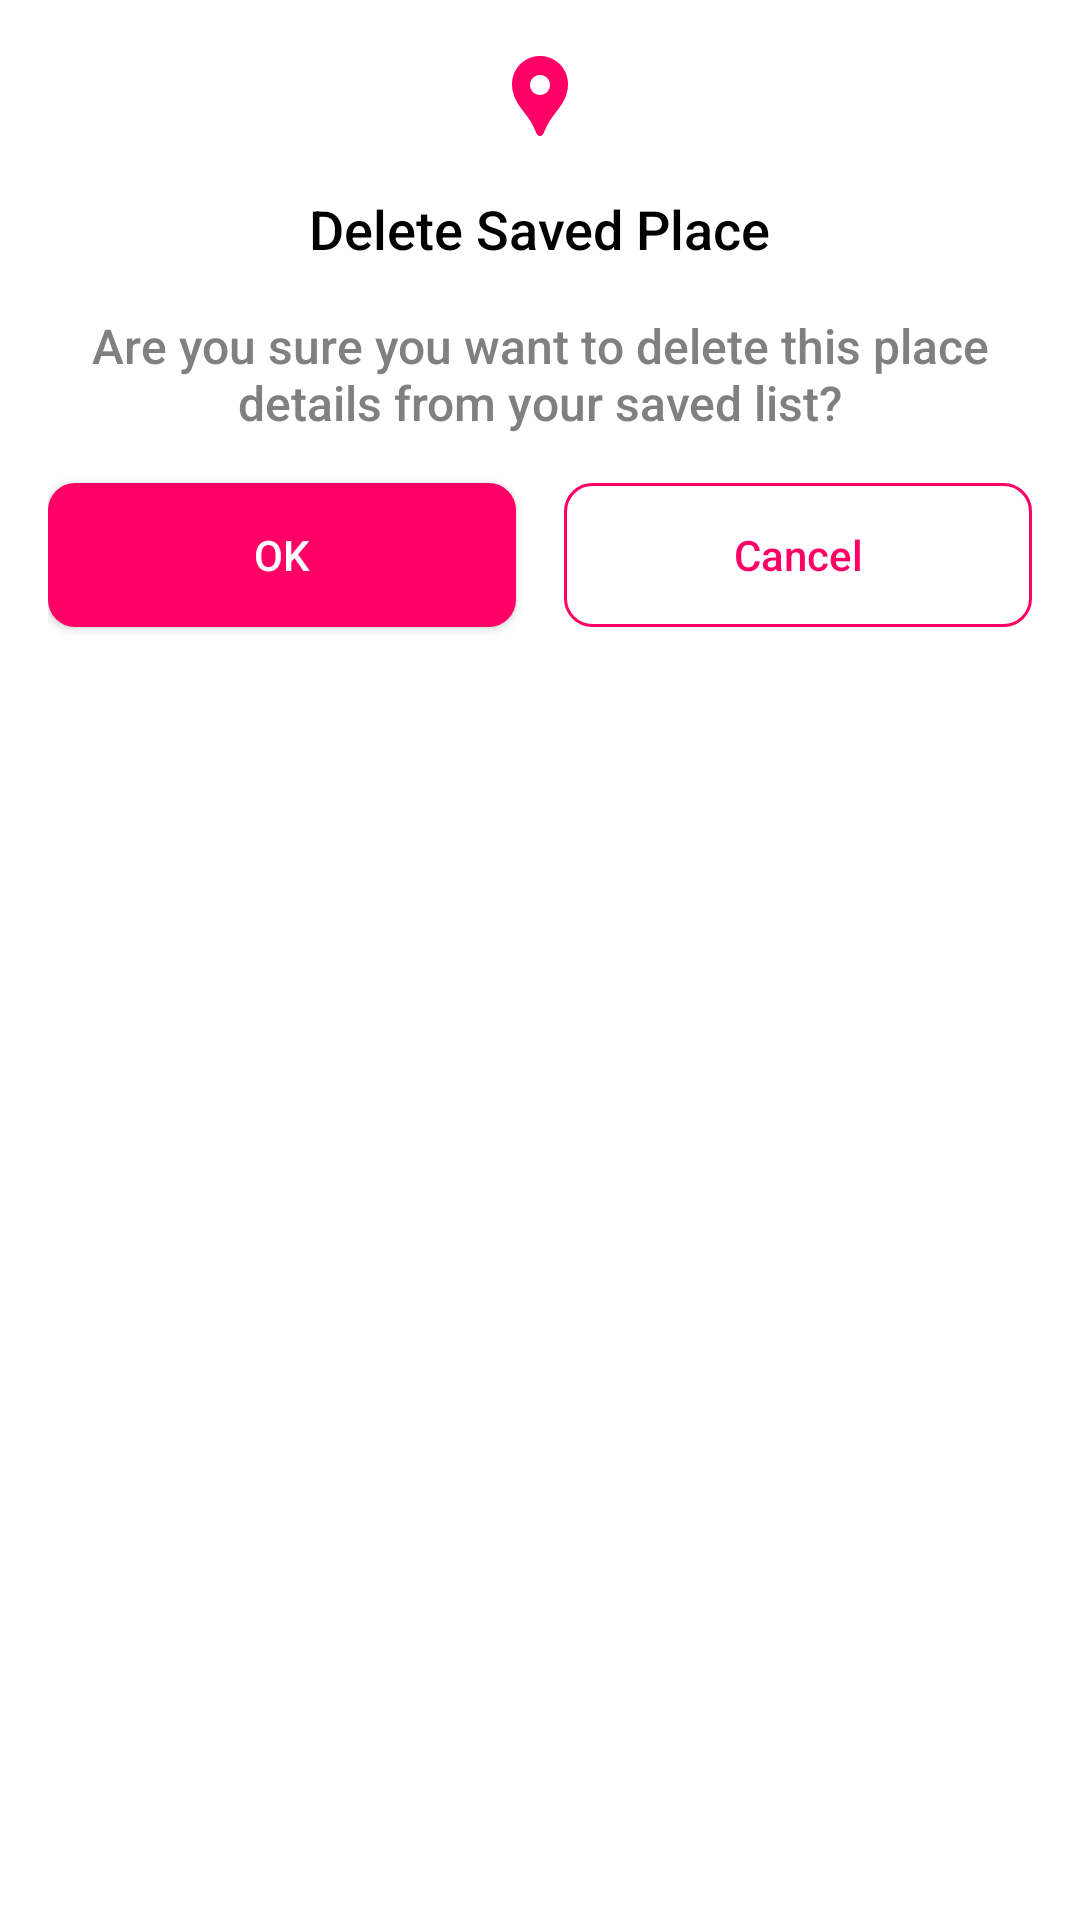

Locate icon controls on the screen. Image size 1080x1920, boxes as box=[x1, y1, x2, y2].
location pin: box=[512, 56, 568, 136]
